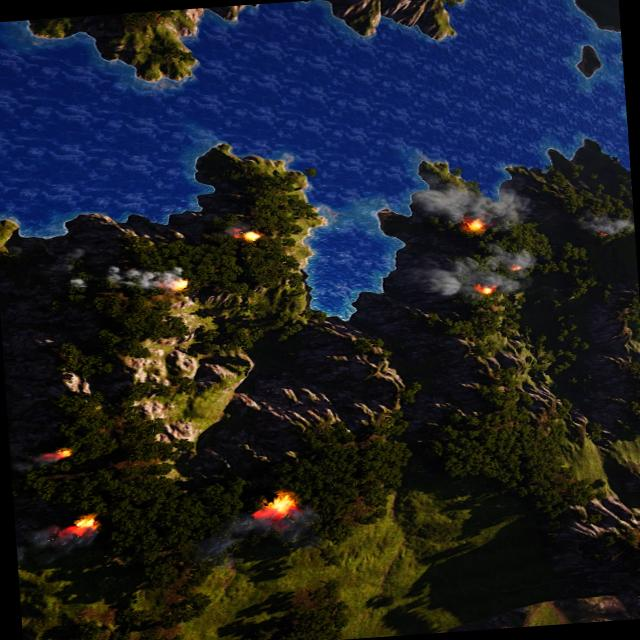fire: (260, 494, 294, 518), (66, 514, 96, 536), (460, 218, 483, 234), (170, 279, 188, 292), (474, 284, 496, 294), (53, 447, 69, 458), (241, 230, 258, 240), (509, 264, 522, 271), (594, 230, 606, 236)
smoke: (190, 508, 320, 564), (408, 178, 534, 234), (418, 246, 539, 301), (13, 524, 96, 570), (100, 260, 184, 294), (575, 210, 634, 238), (9, 454, 57, 473), (223, 220, 250, 237)
